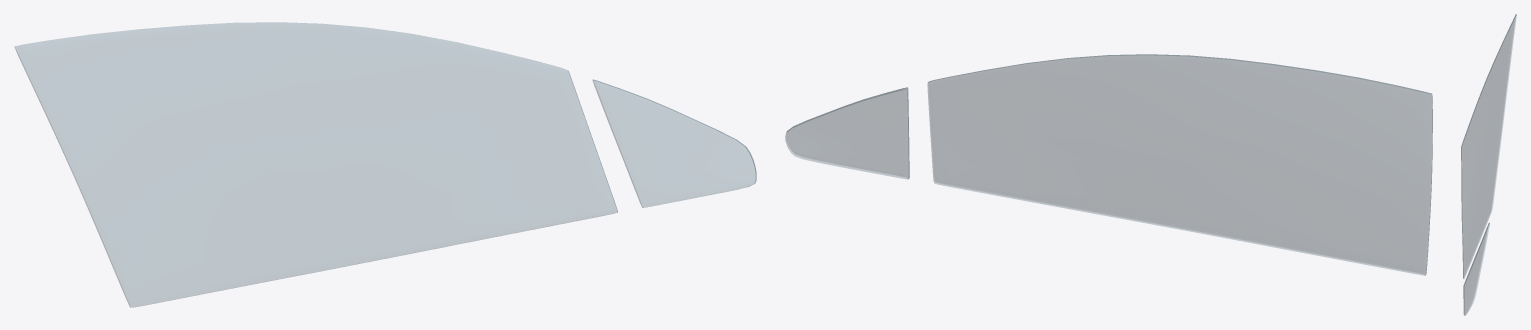
The picture shows the model from 3 angles, left to right: view 1: azimuth 30°, elevation 25°; view 2: azimuth 150°, elevation 25°; view 3: azimuth 270°, elevation 25°; orthographic projection. The views are drawn at different scales.
Visible parts, largest first — view 1: SM_LincolnMKZ_Door_FR_Glass_Ext1; view 2: SM_LincolnMKZ_Door_FR_Glass_Ext1; view 3: SM_LincolnMKZ_Door_FR_Glass_Ext1.
Part boxes in pixels (x1=…): SM_LincolnMKZ_Door_FR_Glass_Ext1: x1=14, y1=22, x2=756, y2=307; SM_LincolnMKZ_Door_FR_Glass_Ext1: x1=785, y1=54, x2=1432, y2=275; SM_LincolnMKZ_Door_FR_Glass_Ext1: x1=1461, y1=14, x2=1516, y2=315.
Size of the model in its own units: 1.11 by 0.412 by 0.1552.
